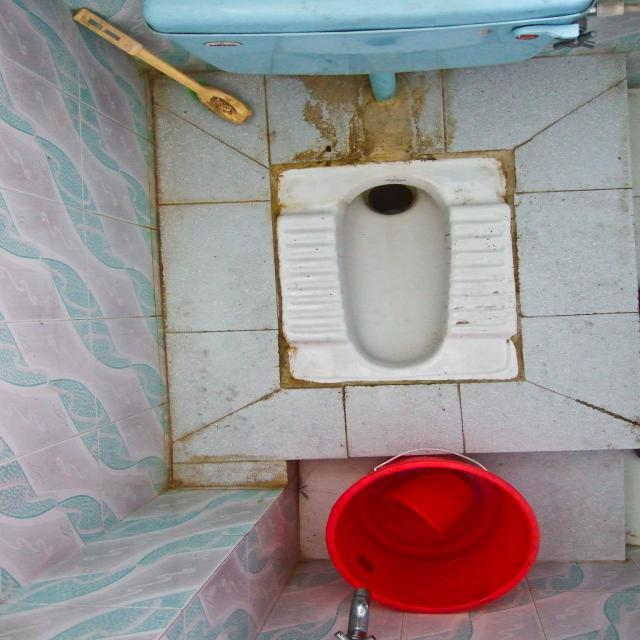dirty_floor: (150, 21, 638, 486), (273, 151, 521, 386), (336, 177, 453, 368), (290, 71, 447, 163), (361, 182, 417, 216)
